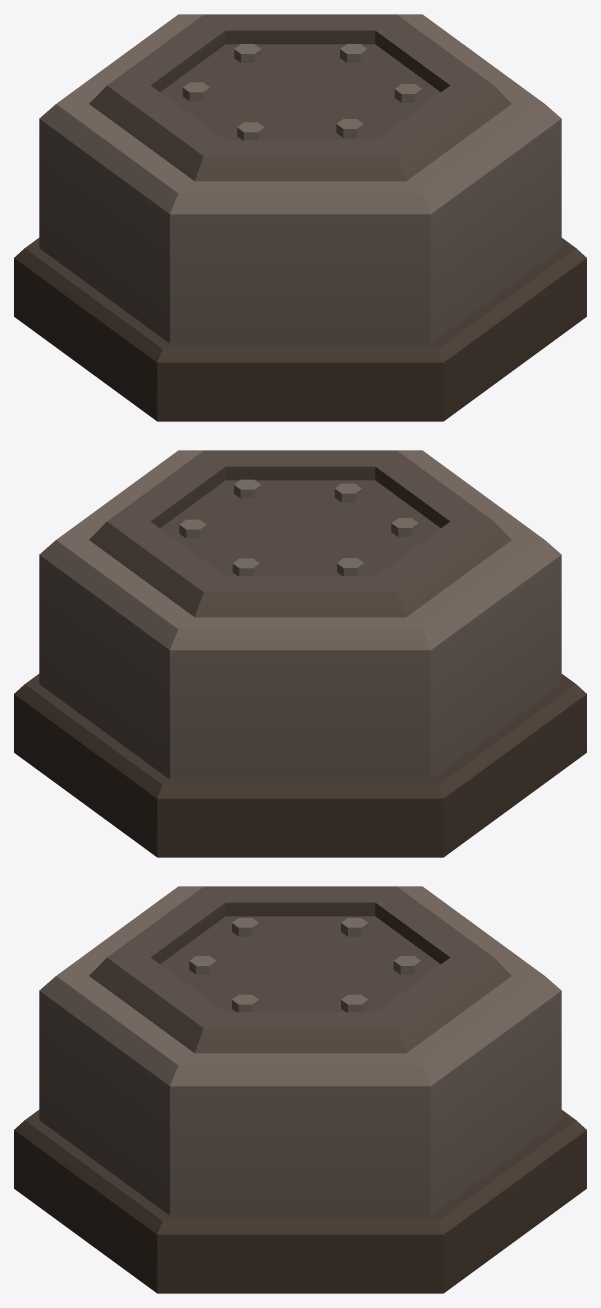
The model's file is Pillar 06.FBX.
The picture shows the model from 3 angles, top to bottom: view 1: azimuth 30°, elevation 25°; view 2: azimuth 150°, elevation 25°; view 3: azimuth 270°, elevation 25°; orthographic projection.
Parts seen in each view (by area): view 1: Pillar 06; view 2: Pillar 06; view 3: Pillar 06.
Boxes of the visible parts, <box> form: Pillar 06: <box>14,14,586,421</box>; Pillar 06: <box>14,450,586,857</box>; Pillar 06: <box>14,886,586,1293</box>.
Size of the model in its own units: 280 by 144 by 323.
Materials: 1 (1 with a texture image).
